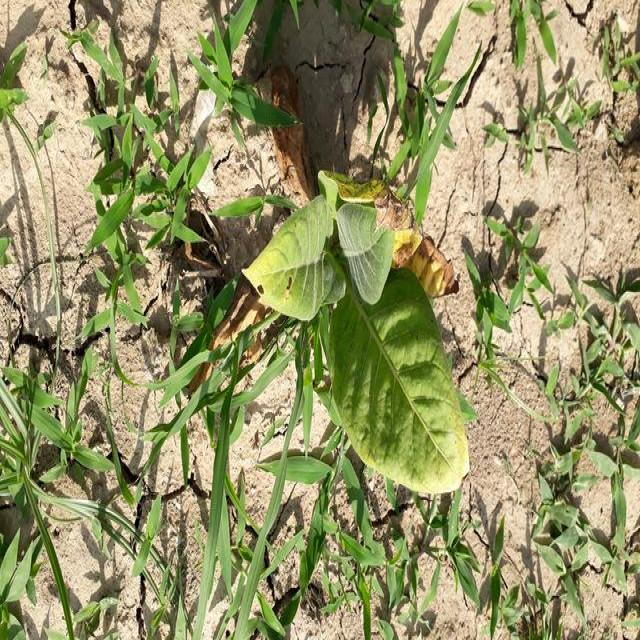crop: (258, 68, 472, 491)
